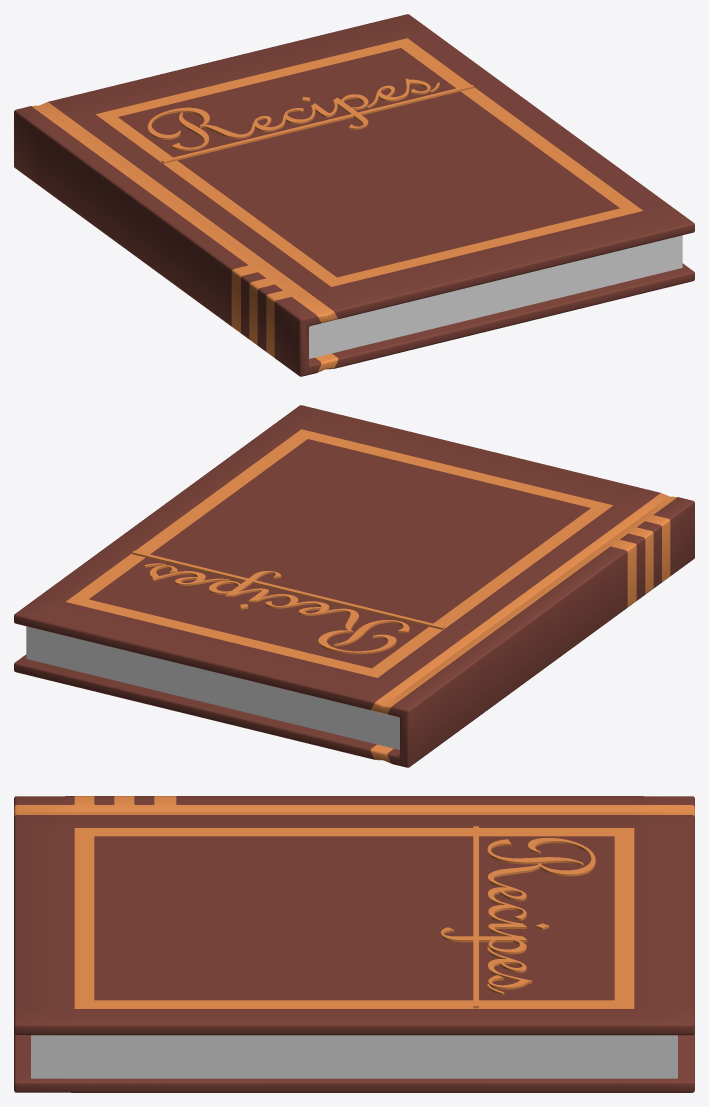
File: ksiazka2.fbx
3 views of the same model, one above another, from view 1: azimuth 30°, elevation 25°; view 2: azimuth 150°, elevation 25°; view 3: azimuth 270°, elevation 25° (orthographic). The views are drawn at different scales.
Parts seen in each view (by area): view 1: Cube.004, Cube.003, Text.001, Cube.005; view 2: Cube.004, Cube.003, Text.001, Cube.005; view 3: Cube.004, Cube.003, Text.001, Cube.005.
Part boxes in pixels (x1=…): Cube.004: x1=14, y1=14, x2=694, y2=376; Cube.003: x1=309, y1=235, x2=682, y2=358; Text.001: x1=147, y1=78, x2=439, y2=150; Cube.005: x1=161, y1=84, x2=474, y2=163; Cube.004: x1=14, y1=405, x2=694, y2=767; Cube.003: x1=26, y1=626, x2=399, y2=749; Text.001: x1=144, y1=563, x2=409, y2=654; Cube.005: x1=132, y1=550, x2=444, y2=629; Cube.004: x1=14, y1=796, x2=694, y2=1092; Cube.003: x1=31, y1=1035, x2=677, y2=1078; Text.001: x1=441, y1=838, x2=595, y2=995; Cube.005: x1=473, y1=826, x2=478, y2=1008.
Size of the model in its own units: 398 by 57.93 by 500.
